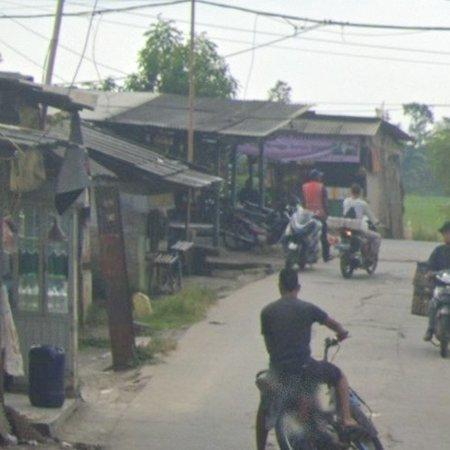motorcycles: (256, 371, 385, 450)
